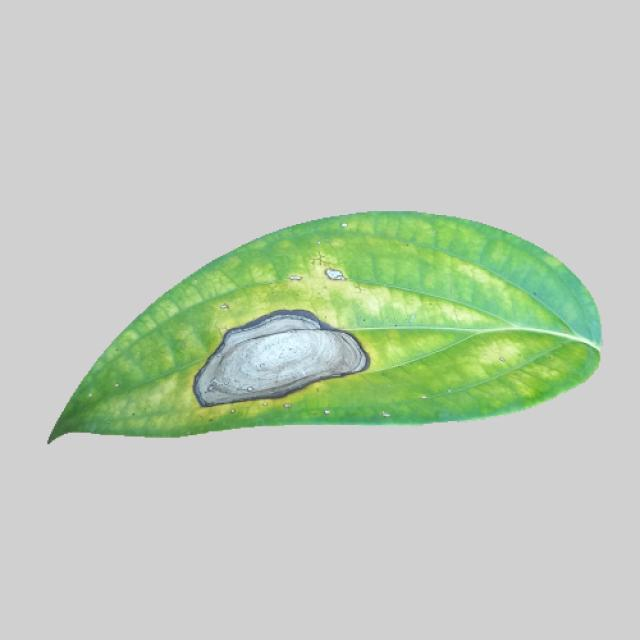leaf-blight: (33, 210, 600, 443)
